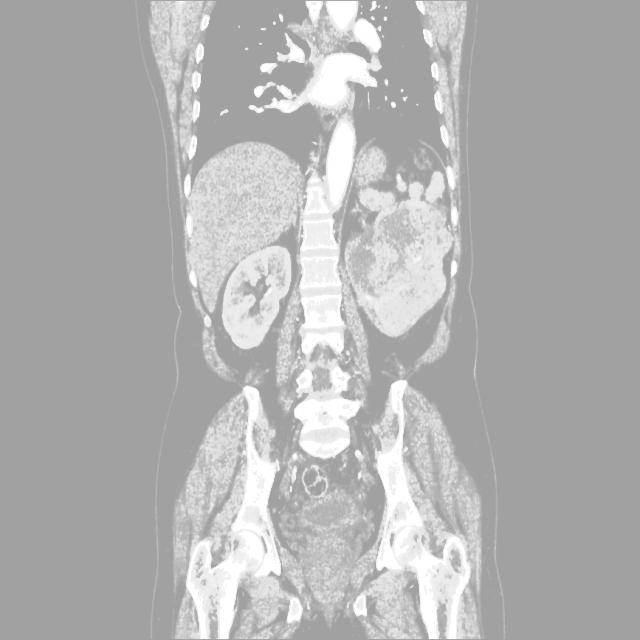TUMOR: (129, 142, 538, 388)
